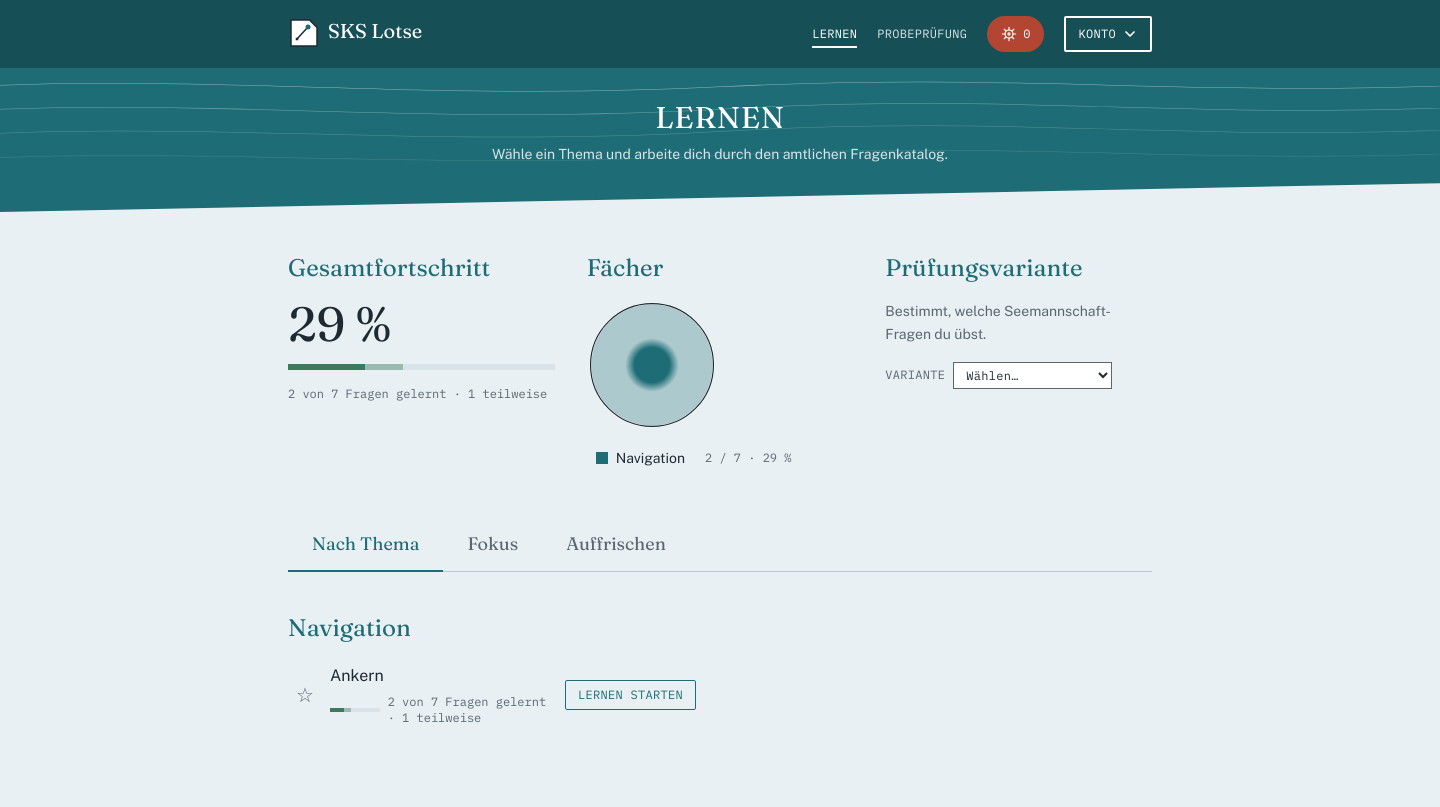
Test: LearnPage › opens on the topic list and switches modes, keeping the mode in the URL
Expected: the tab "Nach Thema" is shown, [288, 518, 443, 572]
Expected: the text "Ankern" is shown, [330, 666, 384, 685]
Click the tab "Auffrischen".
click(616, 545)  # box [542, 518, 690, 572]
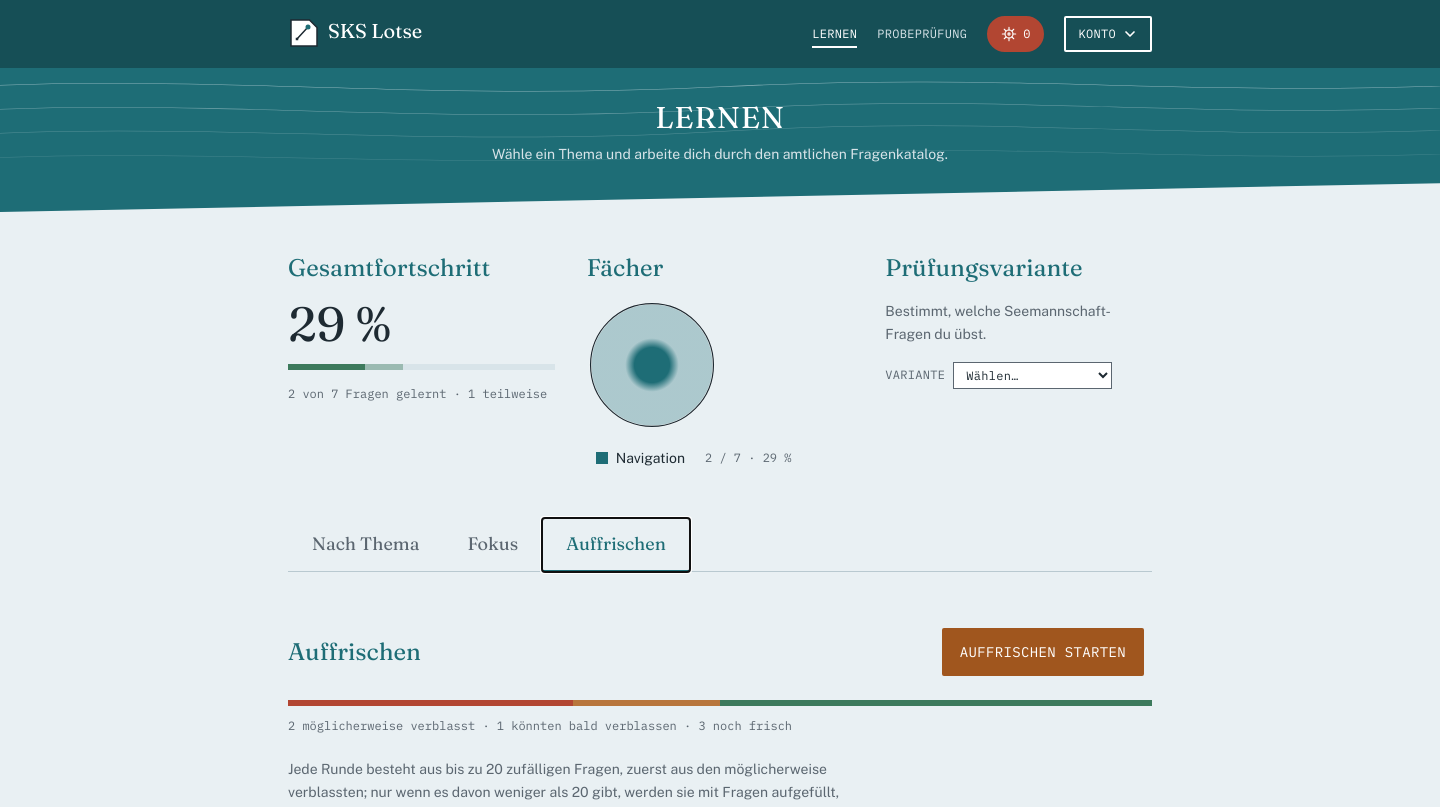
Now the text "2 möglicherweise verblasst" is shown, box [288, 718, 792, 733]
Now the text "Ankern" is gone
Click the tab "Nach Thema".
click(366, 545)  # box [288, 518, 443, 572]
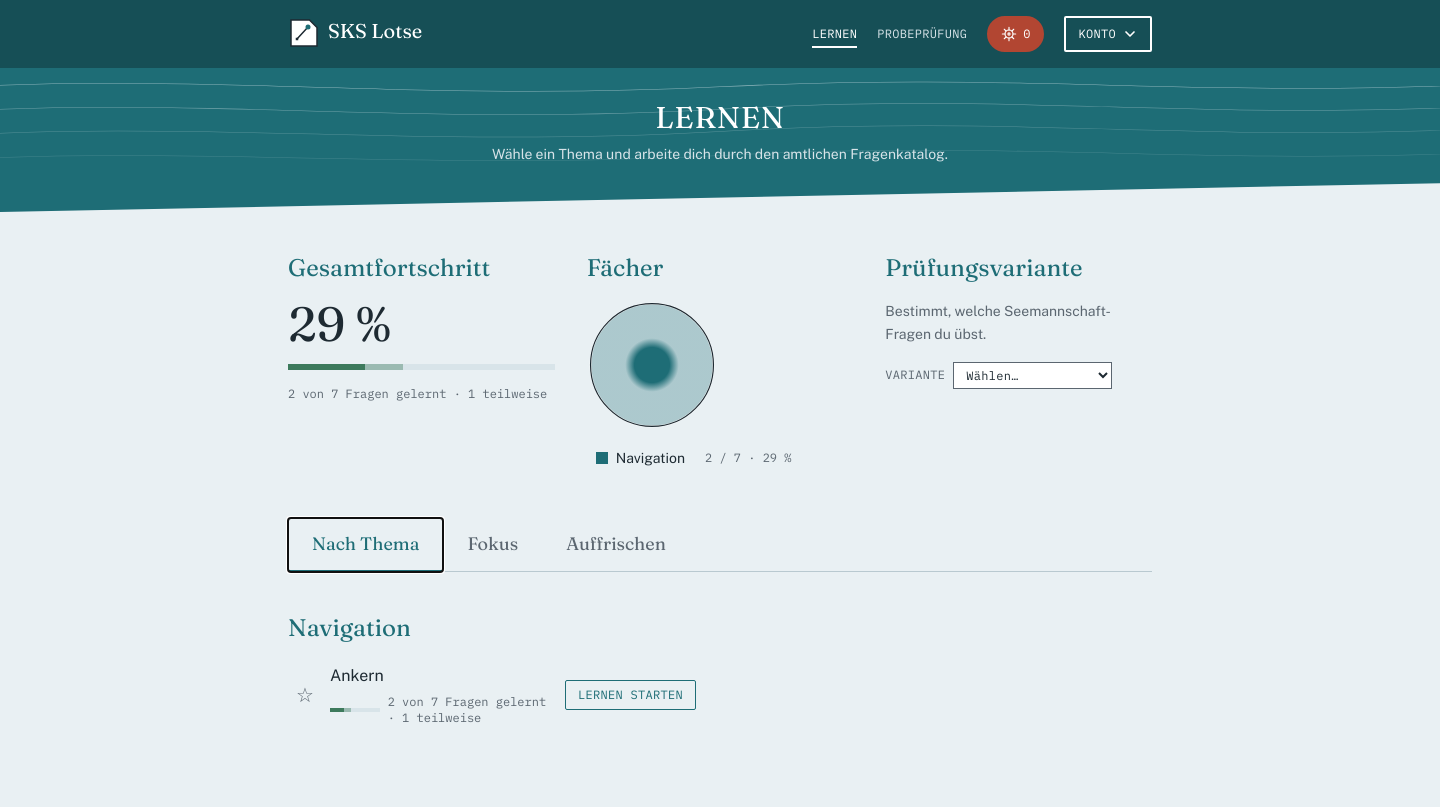
Now the text "Ankern" is shown, box [330, 666, 384, 685]
